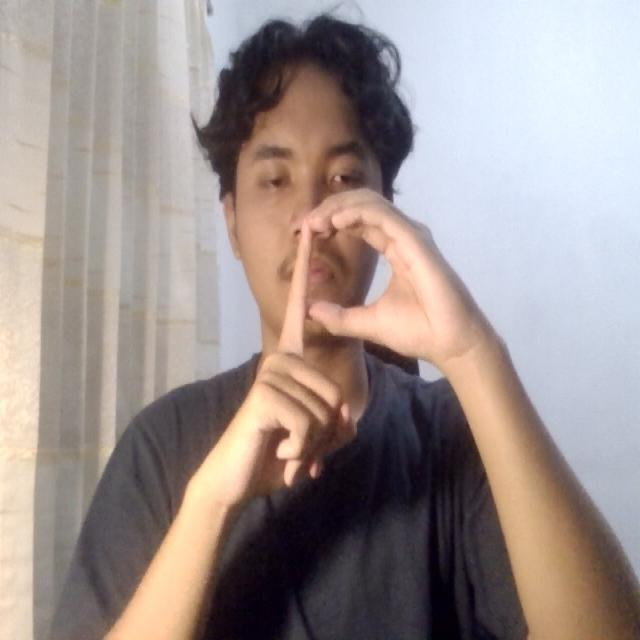D: (203, 176, 463, 521)
